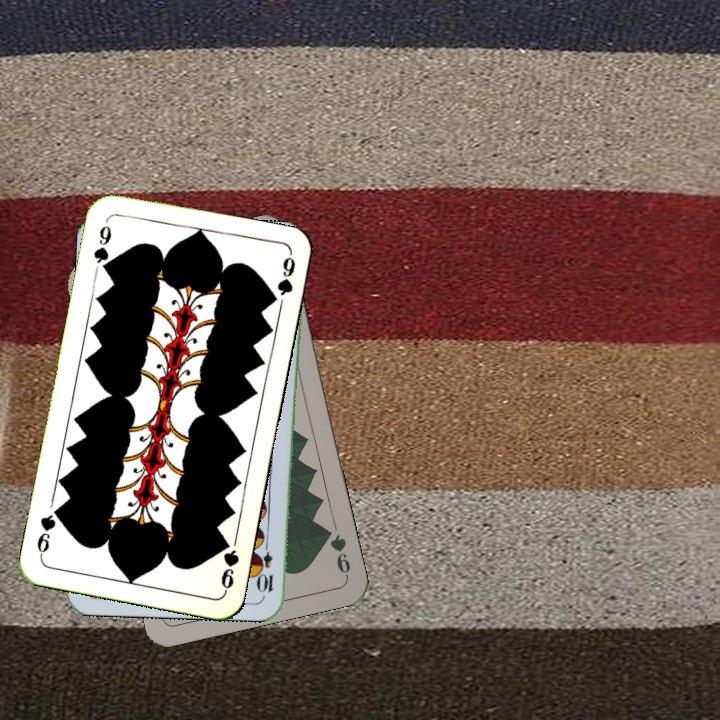E10: (257, 536, 276, 595)
G9: (320, 523, 353, 580), (216, 534, 242, 595), (89, 216, 114, 275)
